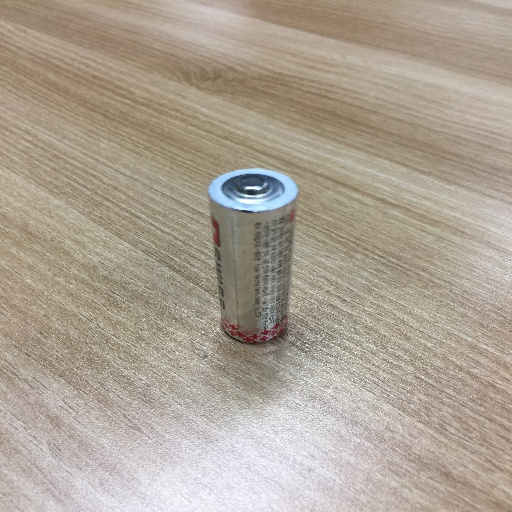Battery_0: (204, 152, 312, 362)
